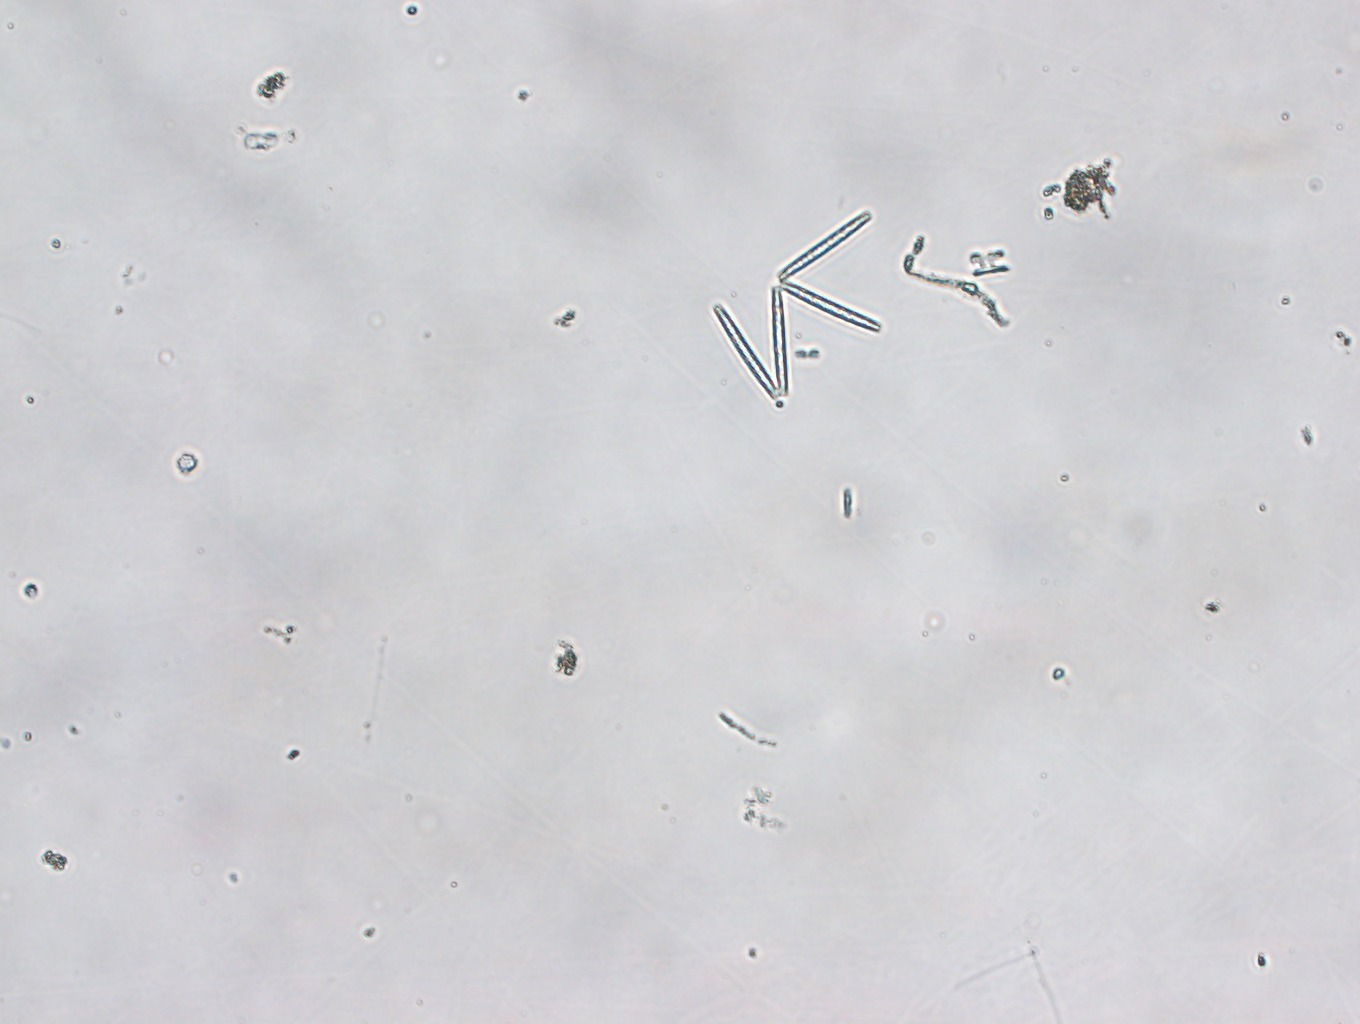thalassionema nitzschioides: (711, 207, 882, 401)
